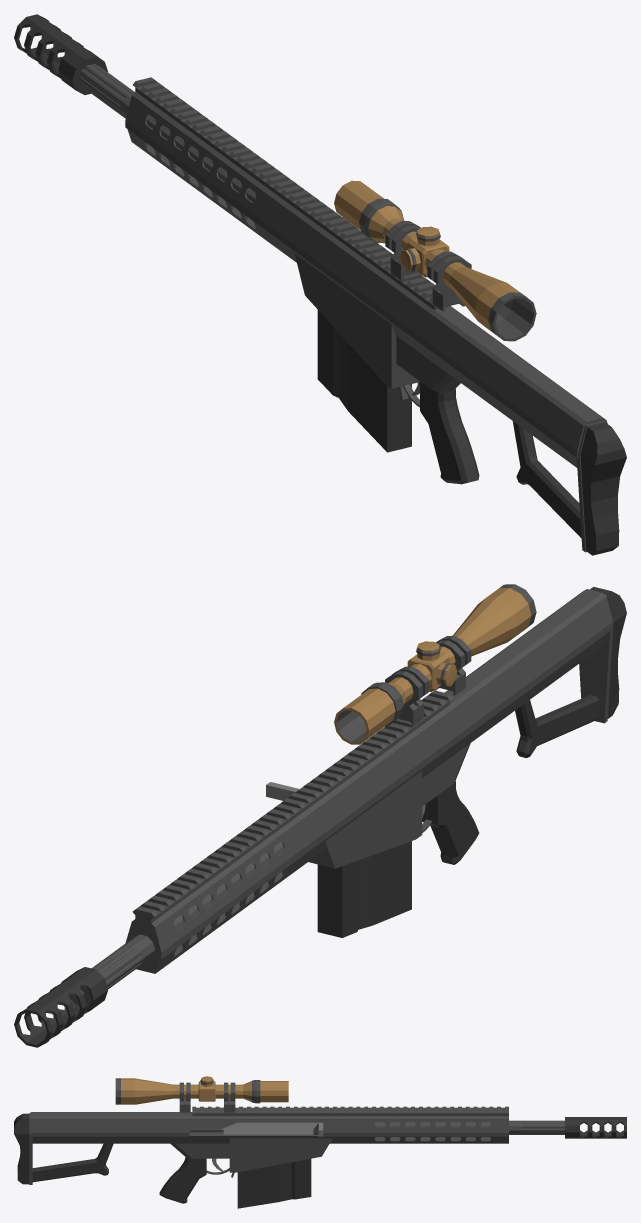
Rendered from weapon-scoped.glb.
The picture shows the model from 3 angles, top to bottom: view 1: azimuth 30°, elevation 25°; view 2: azimuth 150°, elevation 25°; view 3: azimuth 270°, elevation 25°; orthographic projection. The views are drawn at different scales.
Visible parts, largest first — view 1: M107_part, TAN_LR_Scope_01_part, Magazin_part, Rings_part; view 2: M107_part, TAN_LR_Scope_01_part, Magazin_part, Rings_part; view 3: M107_part, TAN_LR_Scope_01_part, Magazin_part, Bolt_part, Rings_part.
Boxes of the visible parts, x1=… form: M107_part: x1=14, y1=14, x2=626, y2=555; TAN_LR_Scope_01_part: x1=334, y1=180, x2=536, y2=341; Magazin_part: x1=317, y1=310, x2=411, y2=452; Rings_part: x1=385, y1=220, x2=471, y2=311; M107_part: x1=14, y1=586, x2=626, y2=1047; TAN_LR_Scope_01_part: x1=334, y1=584, x2=536, y2=744; Magazin_part: x1=317, y1=841, x2=411, y2=937; Rings_part: x1=385, y1=635, x2=471, y2=726; M107_part: x1=14, y1=1106, x2=626, y2=1203; TAN_LR_Scope_01_part: x1=115, y1=1076, x2=288, y2=1104; Magazin_part: x1=237, y1=1158, x2=311, y2=1208; Bolt_part: x1=190, y1=1122, x2=323, y2=1136; Rings_part: x1=179, y1=1082, x2=235, y2=1112.
Bounding box in the file's own units: 0.1098 × 0.3311 × 1.45.
1 material, 1 textured.
